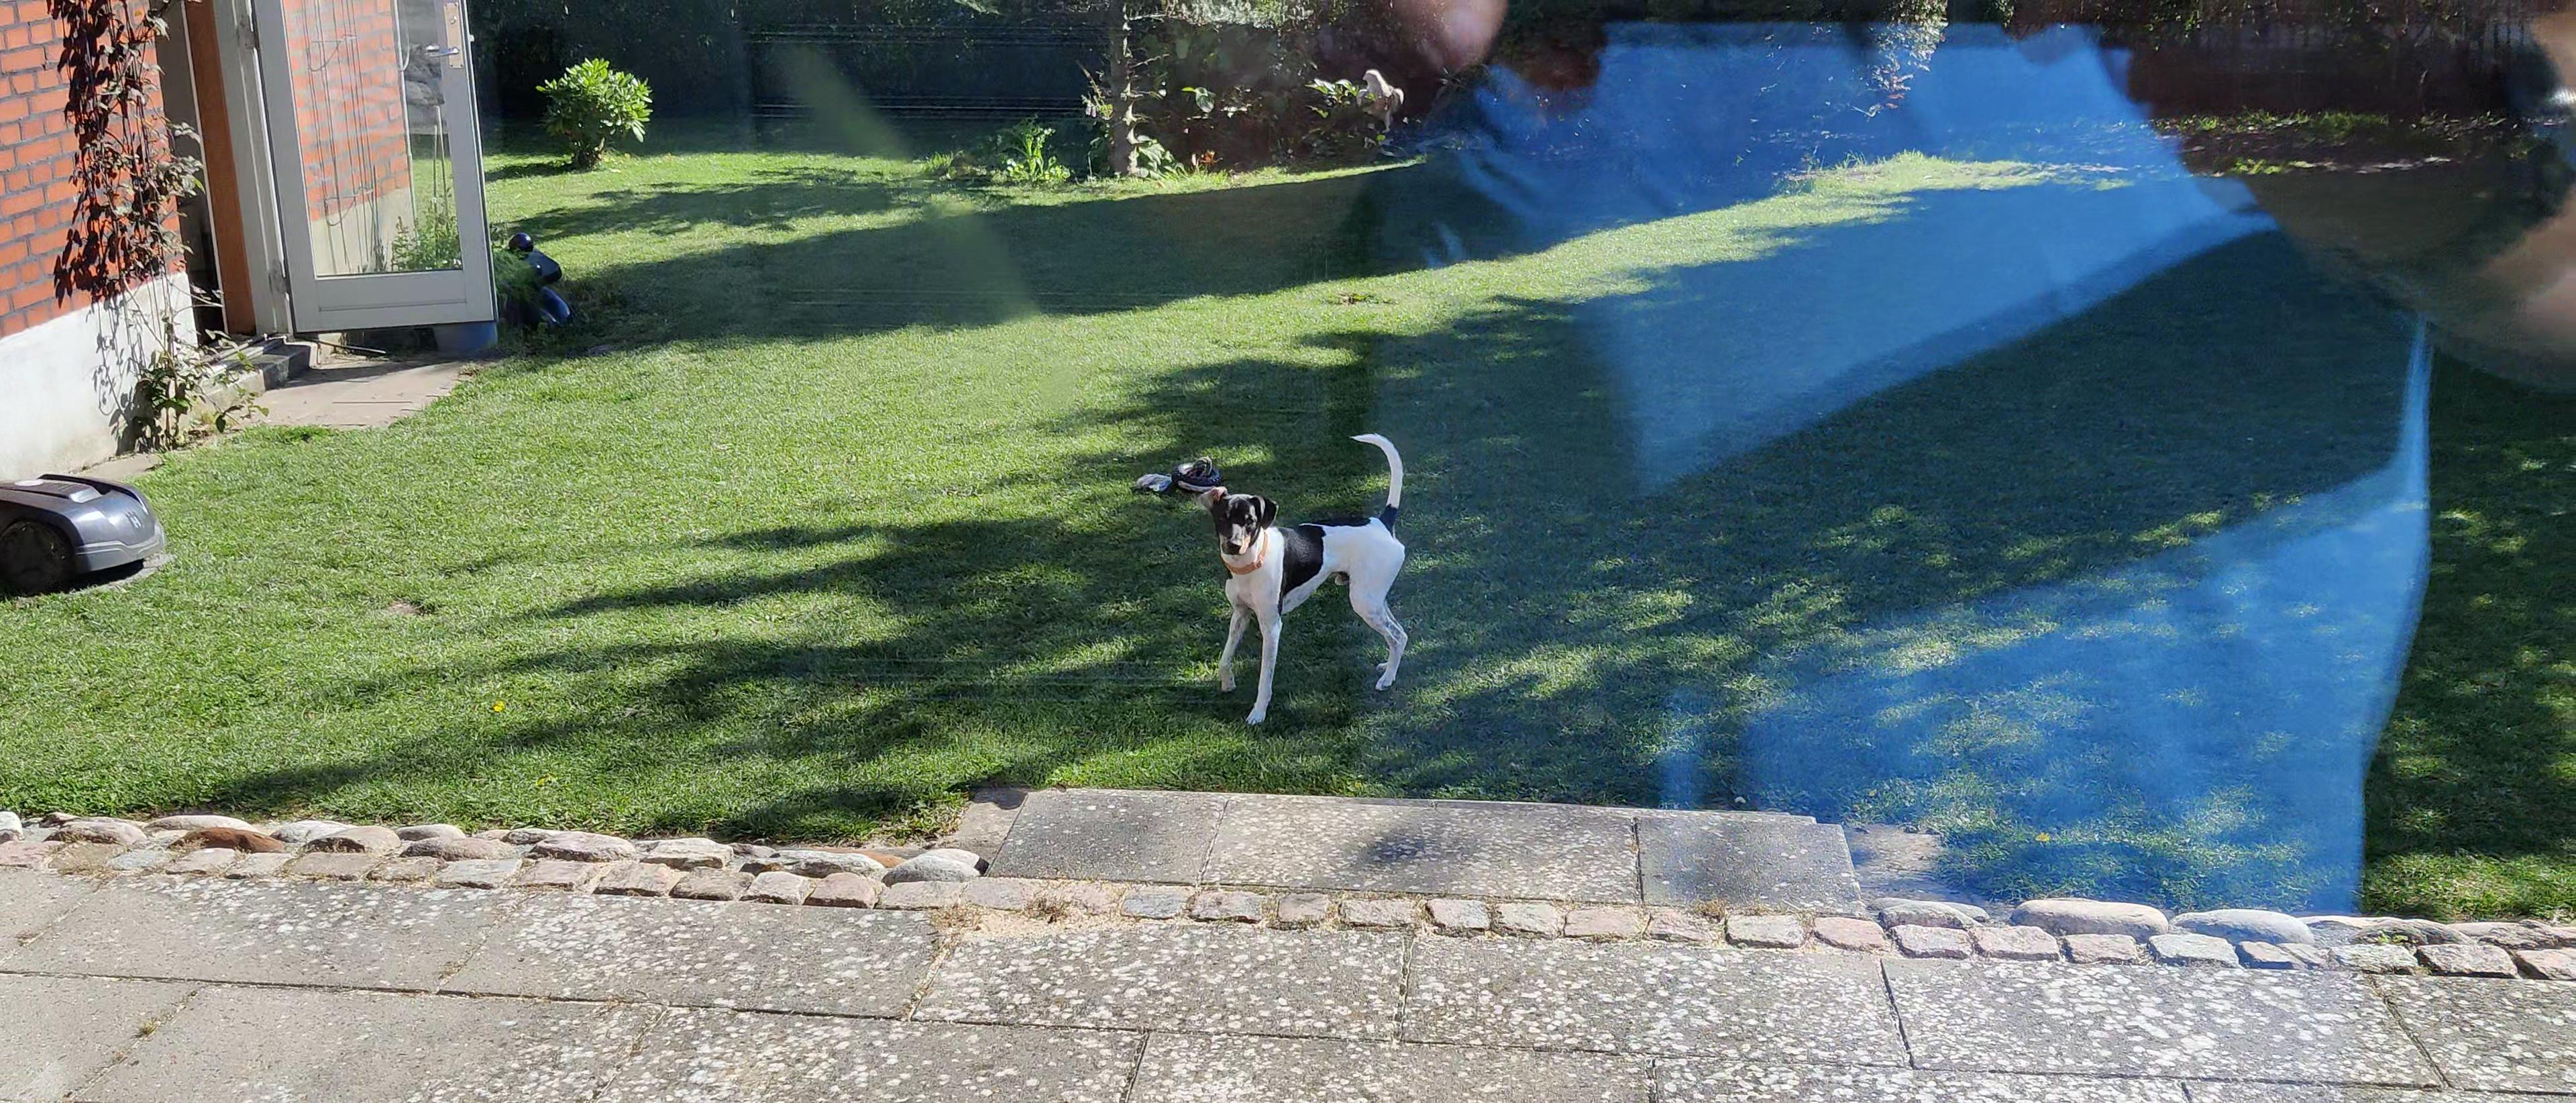Dog: (1191, 431, 1418, 736)
